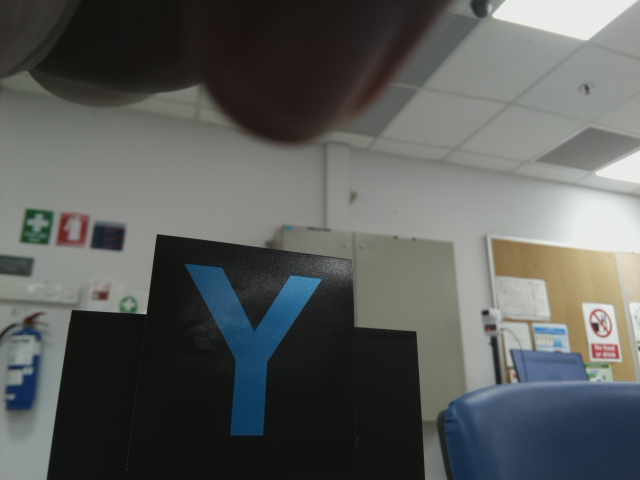y: (179, 257, 329, 442)
